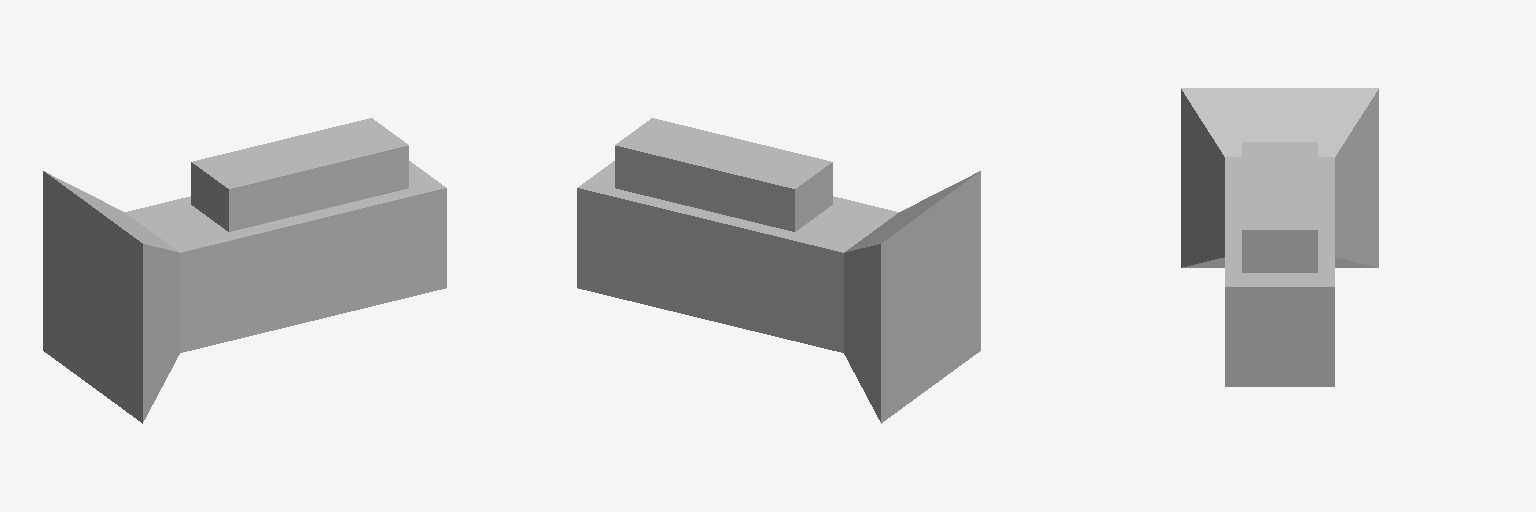
File: Camera.obj
3 renders of one model, left to right at view 1: azimuth 30°, elevation 25°; view 2: azimuth 150°, elevation 25°; view 3: azimuth 270°, elevation 25°, orthographic.
Visible parts, largest first — view 1: Cube_Cube.004; view 2: Cube_Cube.004; view 3: Cube_Cube.004.
Boxes of the visible parts, x1=… form: Cube_Cube.004: x1=43, y1=118, x2=446, y2=423; Cube_Cube.004: x1=577, y1=118, x2=980, y2=423; Cube_Cube.004: x1=1181, y1=88, x2=1378, y2=386.
Size of the model in its own units: 1.79 by 0.9609 by 0.9447.